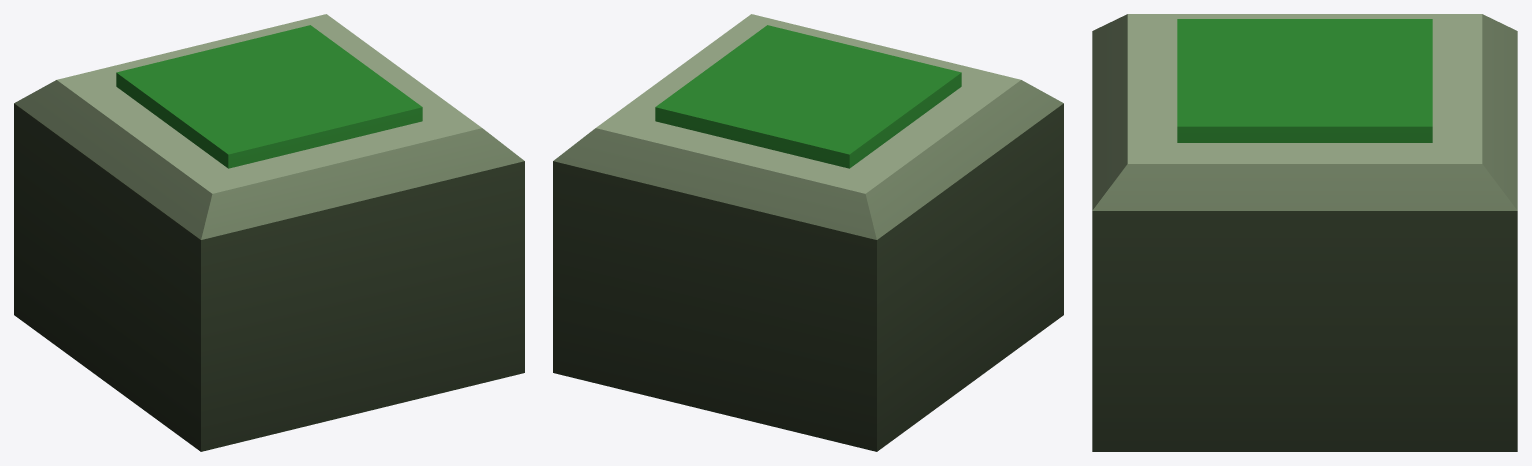
The model's file is centrifuge.glb.
The picture shows the model from 3 angles, left to right: view 1: azimuth 30°, elevation 25°; view 2: azimuth 150°, elevation 25°; view 3: azimuth 270°, elevation 25°; orthographic projection. The views are drawn at different scales.
Parts seen in each view (by area): view 1: centrifuge; view 2: centrifuge; view 3: centrifuge.
Part boxes in pixels (x1,y1,x2,y2): centrifuge: (14,14,524,451); centrifuge: (553,14,1063,451); centrifuge: (1092,14,1517,451).
Bounding box in the file's own units: 0.24 × 0.18 × 0.24.
